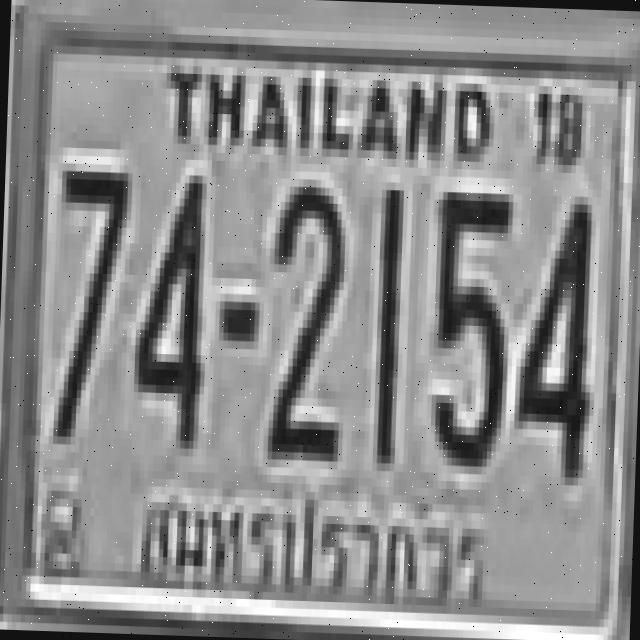1: (370, 186, 402, 460)
2: (262, 174, 342, 457)
4: (512, 191, 592, 474), (130, 166, 204, 440)
5: (425, 184, 509, 458)
7: (49, 163, 128, 438)
SamutPrakan: (126, 472, 510, 638)
